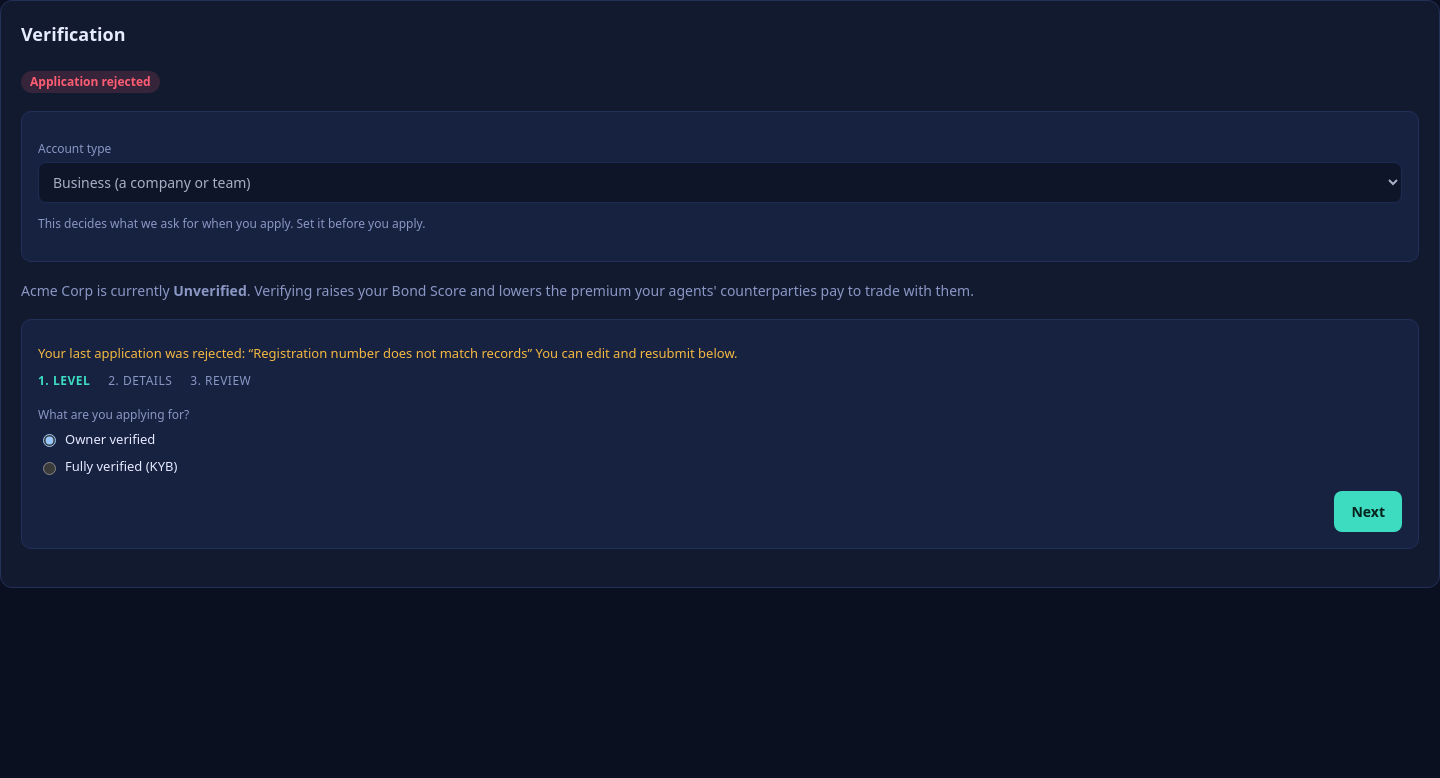
Test: VerificationPage › shows the rejection reason and lets the owner resubmit, pre-filled with what they sent before
The image size is (1440, 778).
Expected: the text "Registration number does not match records" is shown, x1=253 y1=344 x2=527 y2=362
Click the button "Next" at coordinates (1368, 511), box x1=1334 y1=490 x2=1402 y2=532
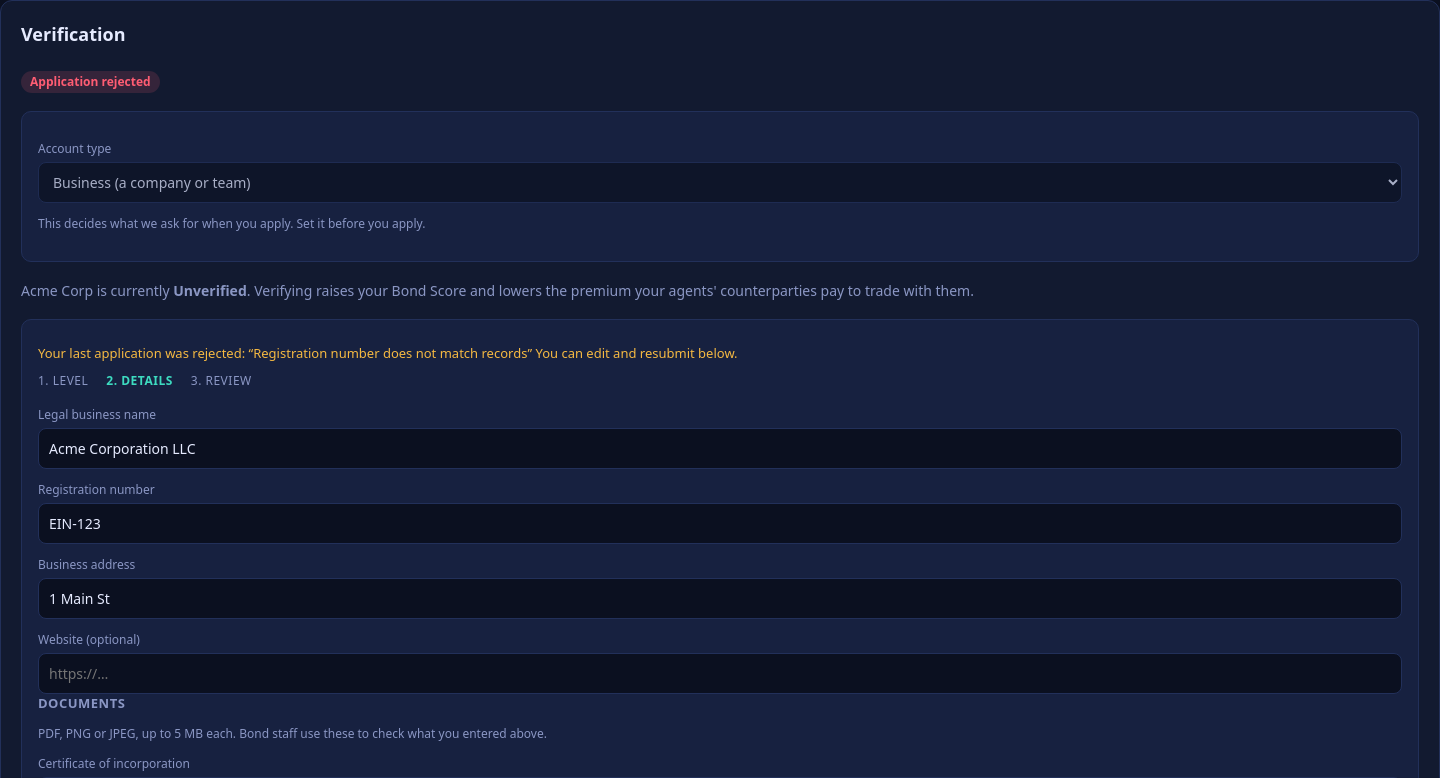
Now the field showing "Acme Corporation LLC" is shown, box x1=38 y1=428 x2=1402 y2=468
